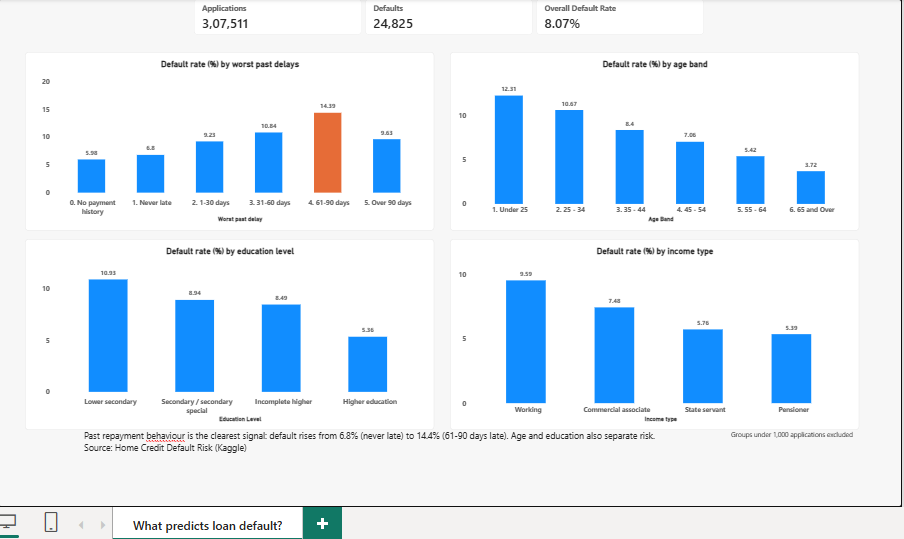

What the dashboard file says about the page in this screenshot:
{"tool":"powerbi","page":{"name":"What predicts loan default?","canvas":[1920,1080],"ordinal":0},"visuals":[{"type":"cardVisual","fields":{"Data":["Sum(02_default_by_income_type.applications)","Sum(02_default_by_income_type.defaults)","02_default_by_income_type.Overall Deafult Rate"]},"box":[416,0,1086,76],"z":0},{"type":"clusteredColumnChart","title":"Default rate (%) by worst past delays","fields":{"Category":["08_default_by_past_delay.delay_details"],"Y":["Sum(08_default_by_past_delay.default_rate_pct)"]},"box":[58,112,870,380],"z":1000},{"type":"clusteredColumnChart","title":"Default rate (%) by age band","fields":{"Category":["04_default_by_age_band.Age_band"],"Y":["Sum(04_default_by_age_band.default_rate_pct)"]},"box":[960,112,870,380],"z":2000},{"type":"clusteredColumnChart","title":"Default rate (%) by education level","fields":{"Category":["03_default_by_education.NAME_EDUCATION_TYPE"],"Y":["Sum(03_default_by_education.default_rate_pct)"]},"box":[58,510,870,406],"z":3000},{"type":"clusteredColumnChart","title":"Default rate (%) by income type","fields":{"Category":["02_default_by_income_type.NAME_INCOME_TYPE"],"Y":["Sum(02_default_by_income_type.default_rate_pct)"]},"box":[960,510,870,406],"z":4000},{"type":"textbox","box":[182.8,916.3,1245.8,51],"z":5000},{"type":"textbox","box":[1412,0,418,150],"z":6000},{"type":"textbox","box":[1558,916,272,50],"z":7000}]}

Visuals, with their boxes on the page's 1920x1080 design canvas (x1, y1, x2, y2). These are canvas units, not pixel positions in the 904x539 screenshot, which may show the page scaled, cropped or inside an application window:
cardVisual - Sum(02_default_by_income_type.applications) x Sum(02_default_by_income_type.defaults): {"left": 416, "top": 0, "right": 1502, "bottom": 76}
"Default rate (%) by worst past delays" clusteredColumnChart: {"left": 58, "top": 112, "right": 928, "bottom": 492}
"Default rate (%) by age band" clusteredColumnChart: {"left": 960, "top": 112, "right": 1830, "bottom": 492}
"Default rate (%) by education level" clusteredColumnChart: {"left": 58, "top": 510, "right": 928, "bottom": 916}
"Default rate (%) by income type" clusteredColumnChart: {"left": 960, "top": 510, "right": 1830, "bottom": 916}
textbox: {"left": 183, "top": 916, "right": 1429, "bottom": 967}
textbox: {"left": 1412, "top": 0, "right": 1830, "bottom": 150}
textbox: {"left": 1558, "top": 916, "right": 1830, "bottom": 966}
